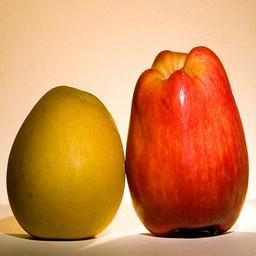apple: (126, 44, 249, 236)
